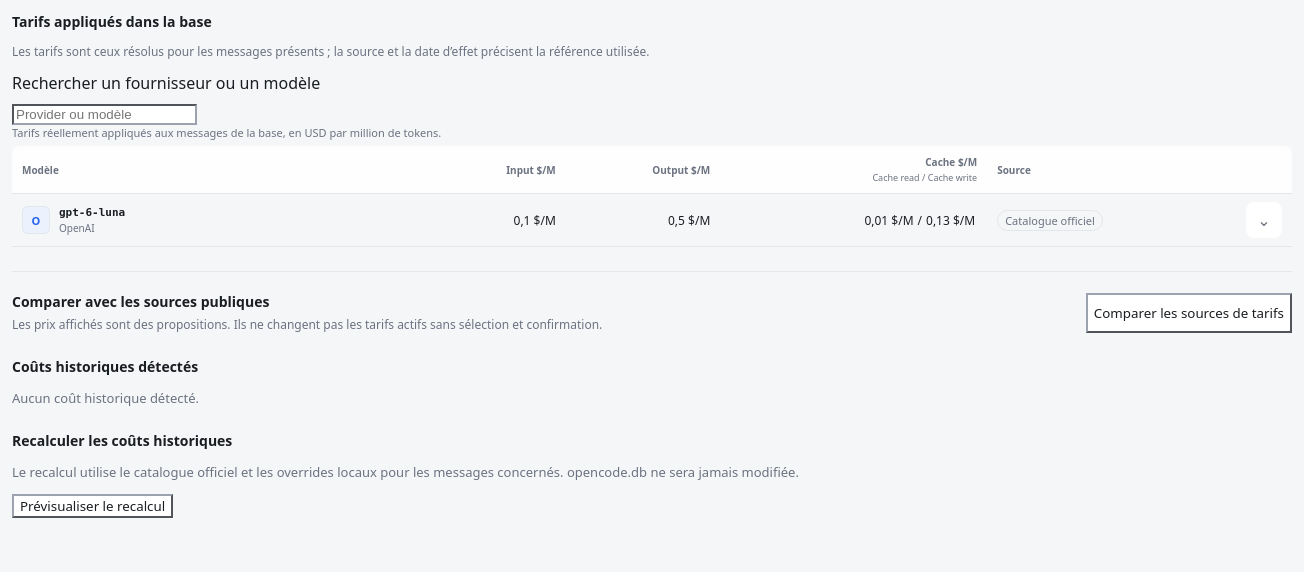
RatesSection recalculation preview › keeps rate details collapsed until the row is expanded
Check: the text "Date d’effet" is not shown
Click the button named "Afficher les détails de gpt-6-luna".
click(1264, 220)  # box top-left (1246, 202), bottom-right (1282, 238)
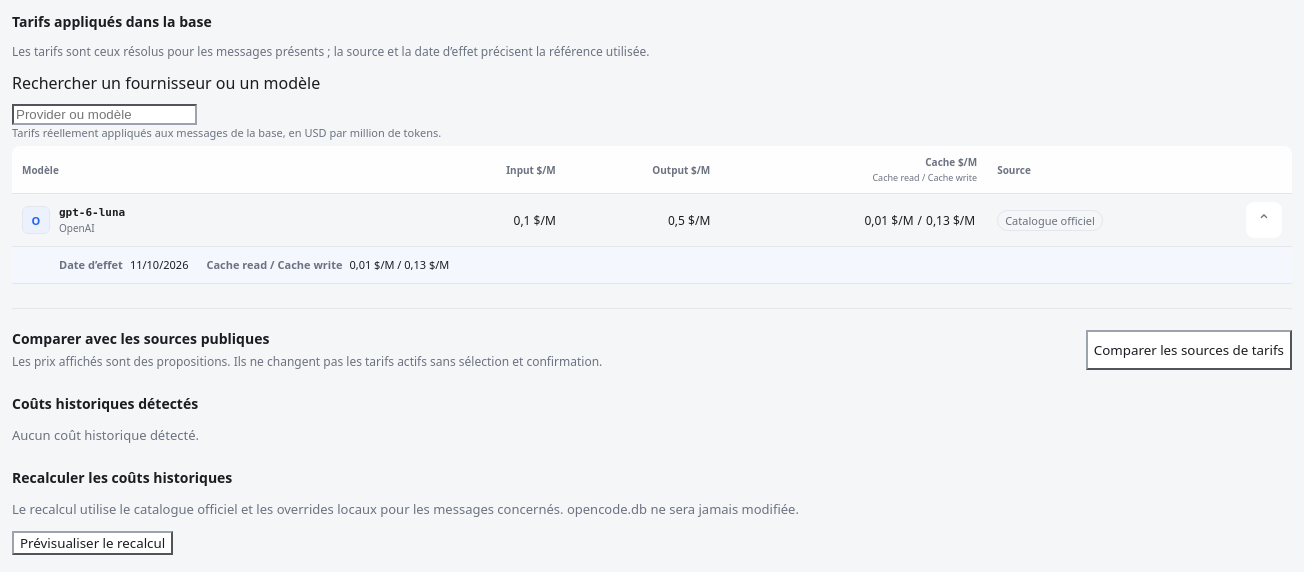
Check: the text "Date d’effet" is shown, box top-left (12, 43), bottom-right (649, 60)
Check: the button named "Afficher les détails de gpt-6-luna" is expanded, box top-left (1246, 202), bottom-right (1282, 238)
Check: the text "11/10/2026" is shown, box top-left (130, 257), bottom-right (188, 272)
